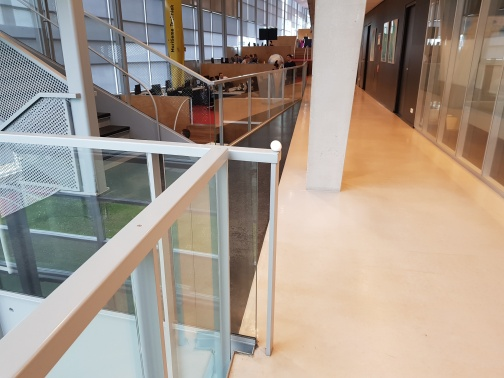egg: (268, 138, 284, 153)
